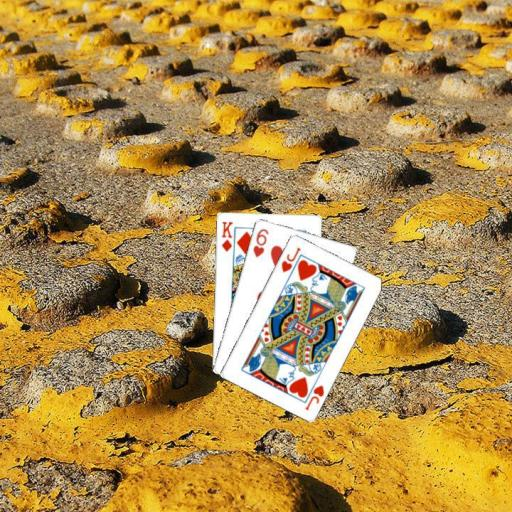6H: (250, 226, 270, 258)
JH: (278, 244, 302, 274), (302, 382, 326, 412)
KD: (218, 218, 234, 253)
